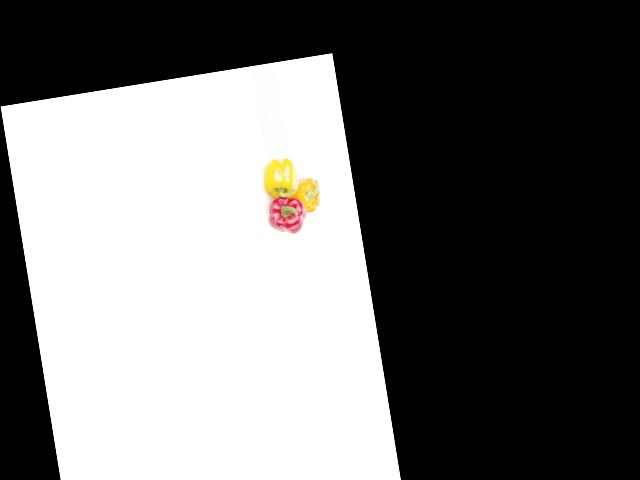bell_pepper: (257, 155, 301, 199)
